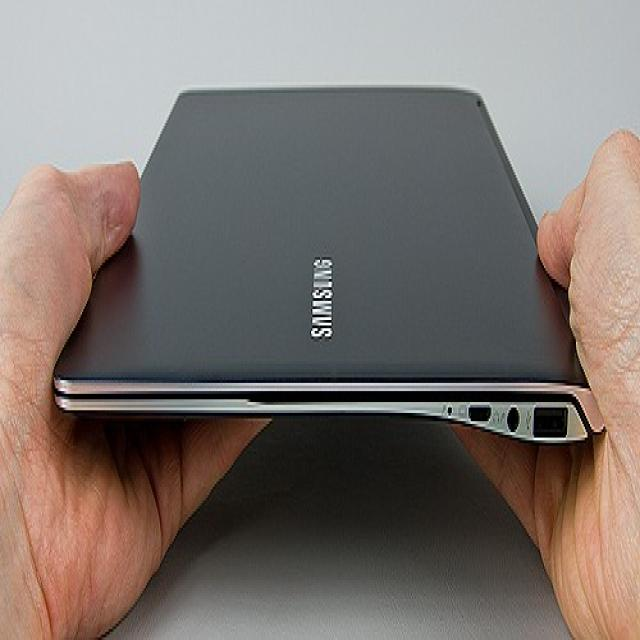laptop: (52, 82, 606, 443)
